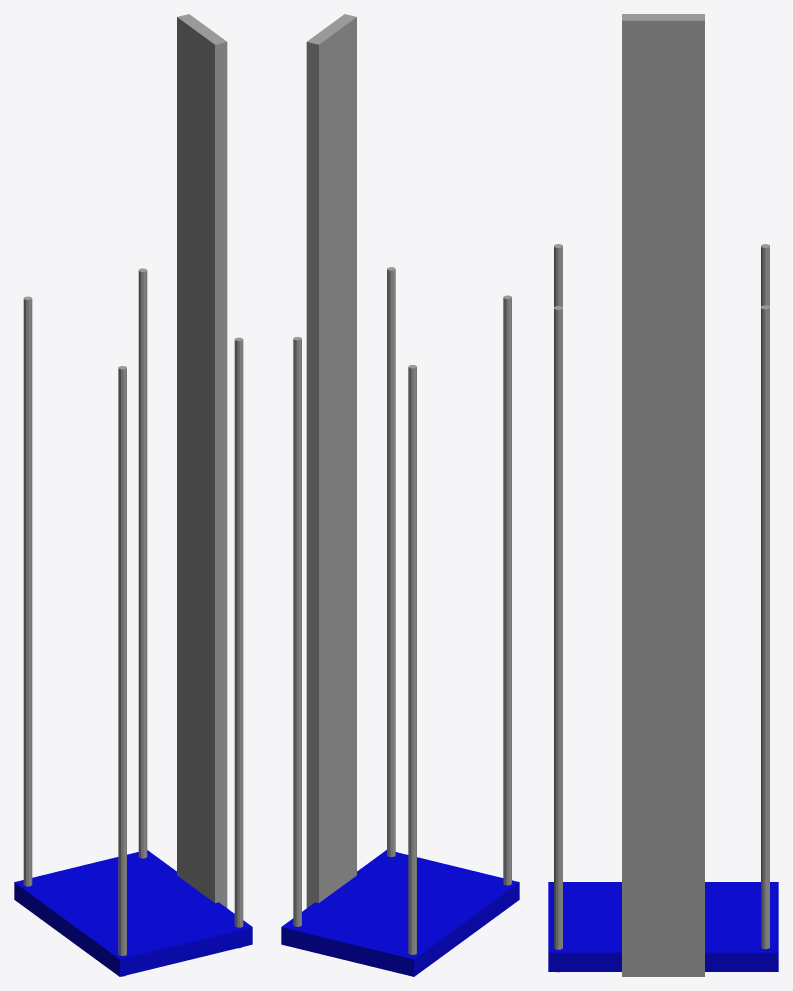
Rendered from assenceur.fbx.
3 renders of one model, left to right at view 1: azimuth 30°, elevation 25°; view 2: azimuth 150°, elevation 25°; view 3: azimuth 270°, elevation 25°, orthographic. The views are drawn at different scales.
Parts seen in each view (by area): view 1: pCube2, pCylinder5; view 2: pCube2, pCylinder5; view 3: pCube2, pCylinder5.
Boxes of the visible parts, x1,y1,x2,y2 form: pCube2: [177, 14, 227, 907]; pCylinder5: [14, 268, 252, 976]; pCube2: [306, 14, 356, 907]; pCylinder5: [281, 267, 519, 976]; pCube2: [622, 14, 704, 976]; pCylinder5: [548, 244, 778, 972].
Size of the model in its own units: 17.68 by 105 by 22.89.
